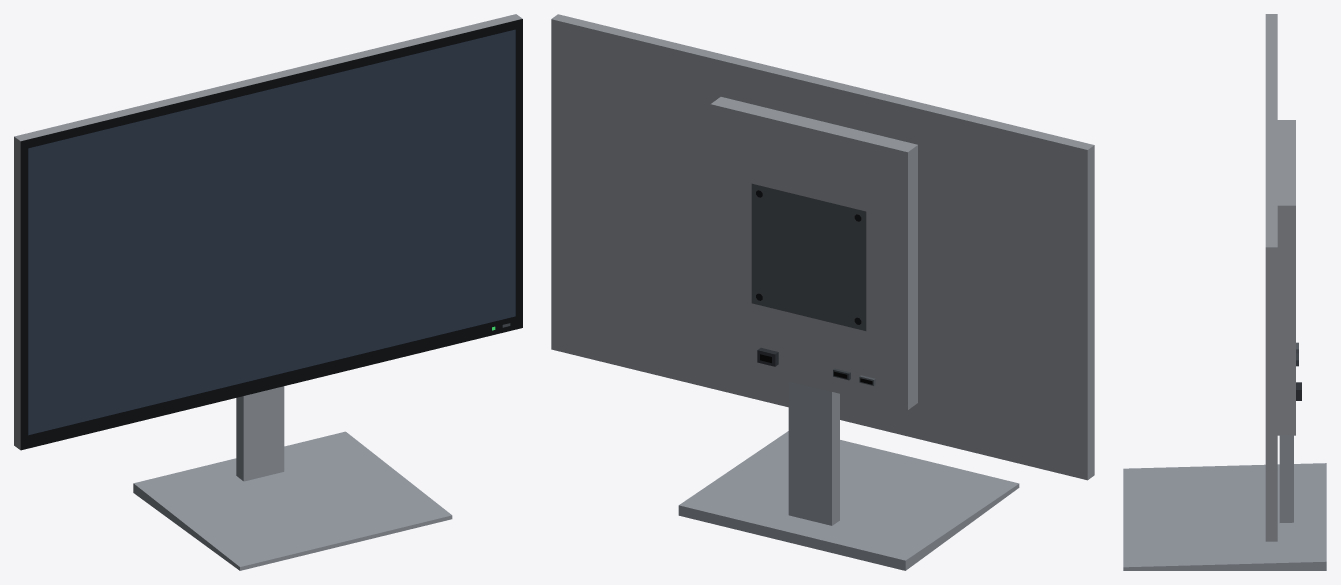
File: Client_Monitor.glb
3 views of the same model, side by side, from view 1: azimuth 30°, elevation 25°; view 2: azimuth 150°, elevation 25°; view 3: azimuth 270°, elevation 25° (orthographic). The views are drawn at different scales.
Visible parts, largest first — view 1: Screen, Stand, Body; view 2: Body, Stand; view 3: Stand, Body.
Boxes of the visible parts, box(x1,y1,x2,y2) form: Screen: box(28, 29, 515, 435); Stand: box(133, 386, 452, 570); Body: box(14, 14, 522, 450); Body: box(551, 14, 1094, 480); Stand: box(678, 381, 1019, 570); Stand: box(1123, 435, 1326, 570); Body: box(1265, 14, 1301, 541).
Size of the model in its own units: 0.544 by 0.425 by 0.2.
